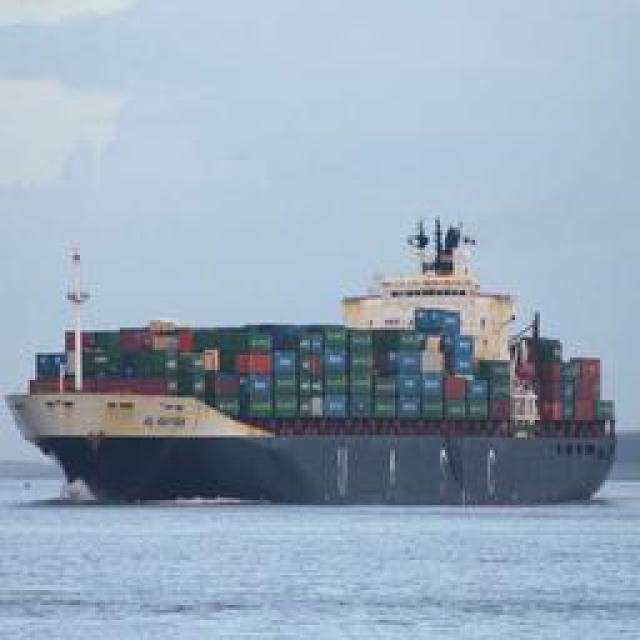Ship: (15, 207, 618, 495)
